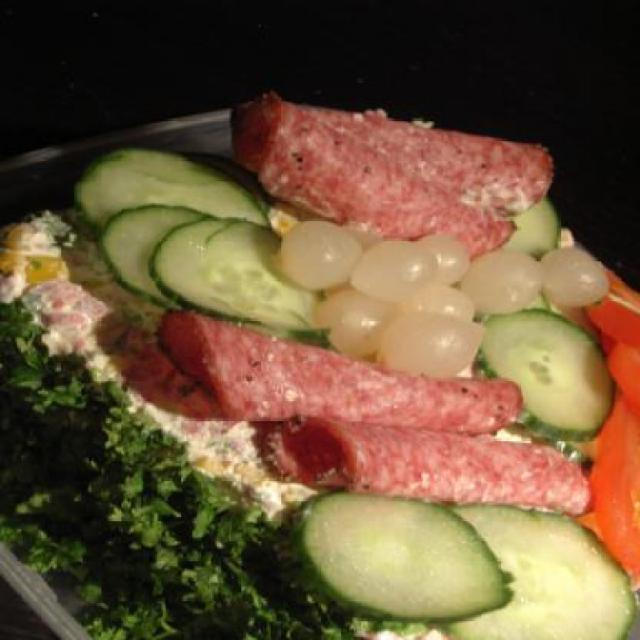Zucchini: (18, 124, 604, 560), (287, 492, 515, 622), (431, 501, 639, 640), (477, 310, 620, 444)
